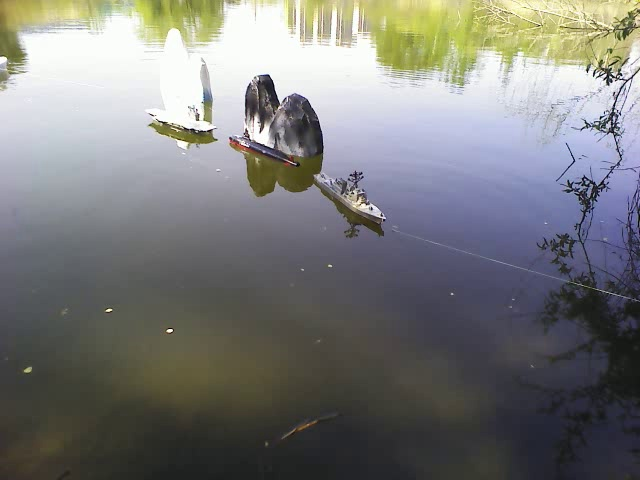aircraft_carrier: (150, 105, 223, 139)
iceberg: (154, 25, 216, 103)
rock: (242, 72, 331, 157)
submarine: (232, 133, 296, 166)
warship: (311, 168, 392, 230)
